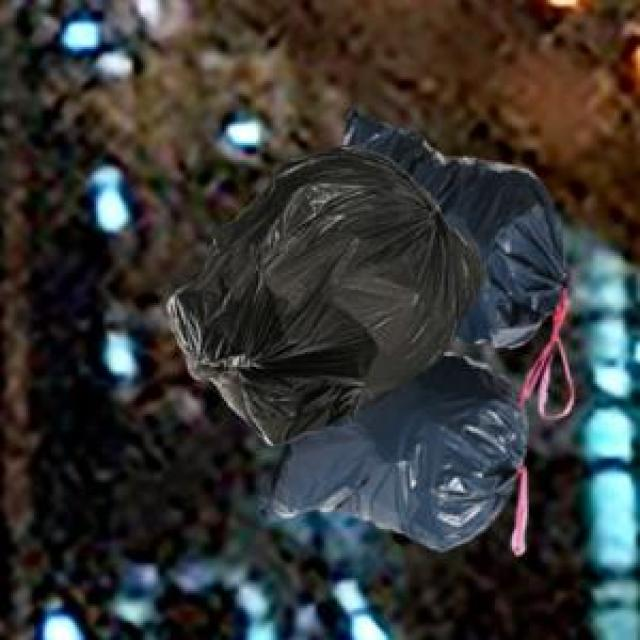garbage_bag: (162, 107, 580, 555)
